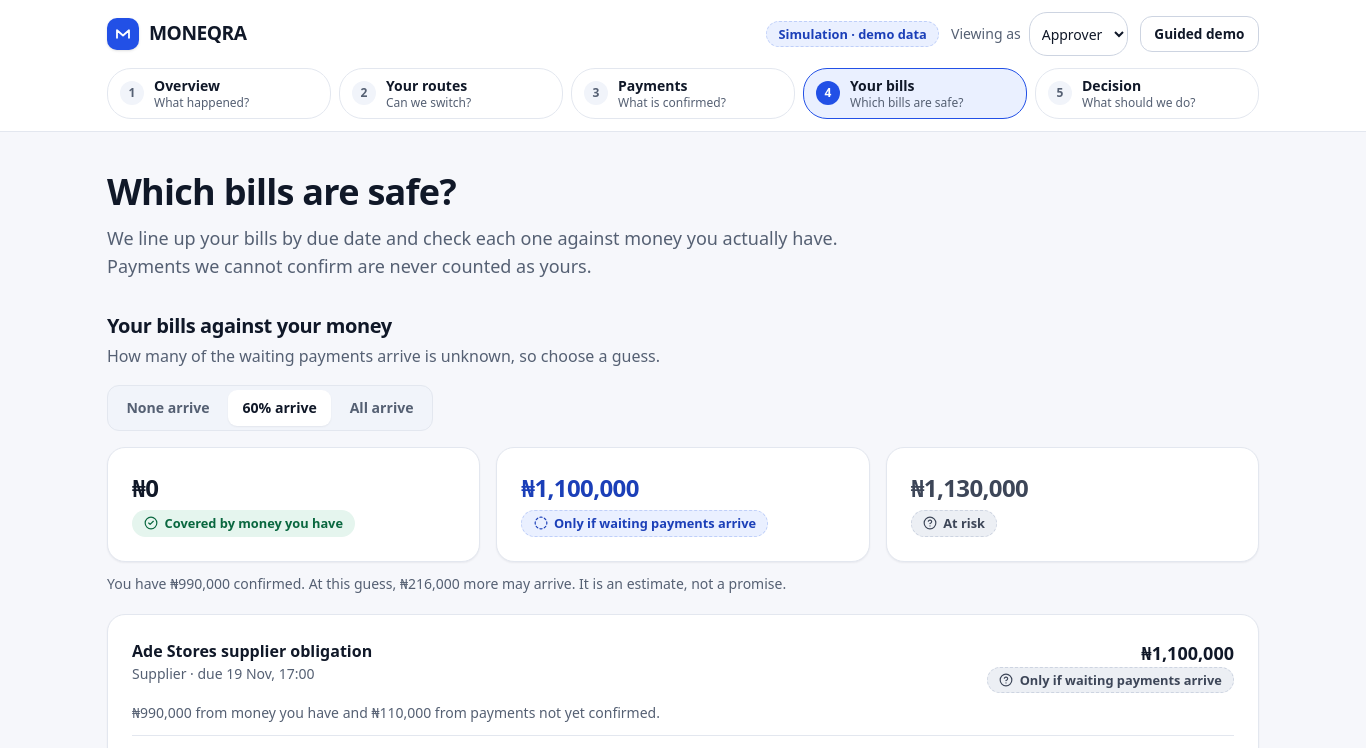
Scenario: Your bills › changing the guess changes the coverage
Click the button "None arrive" at (168, 408), box [112,390,224,426]
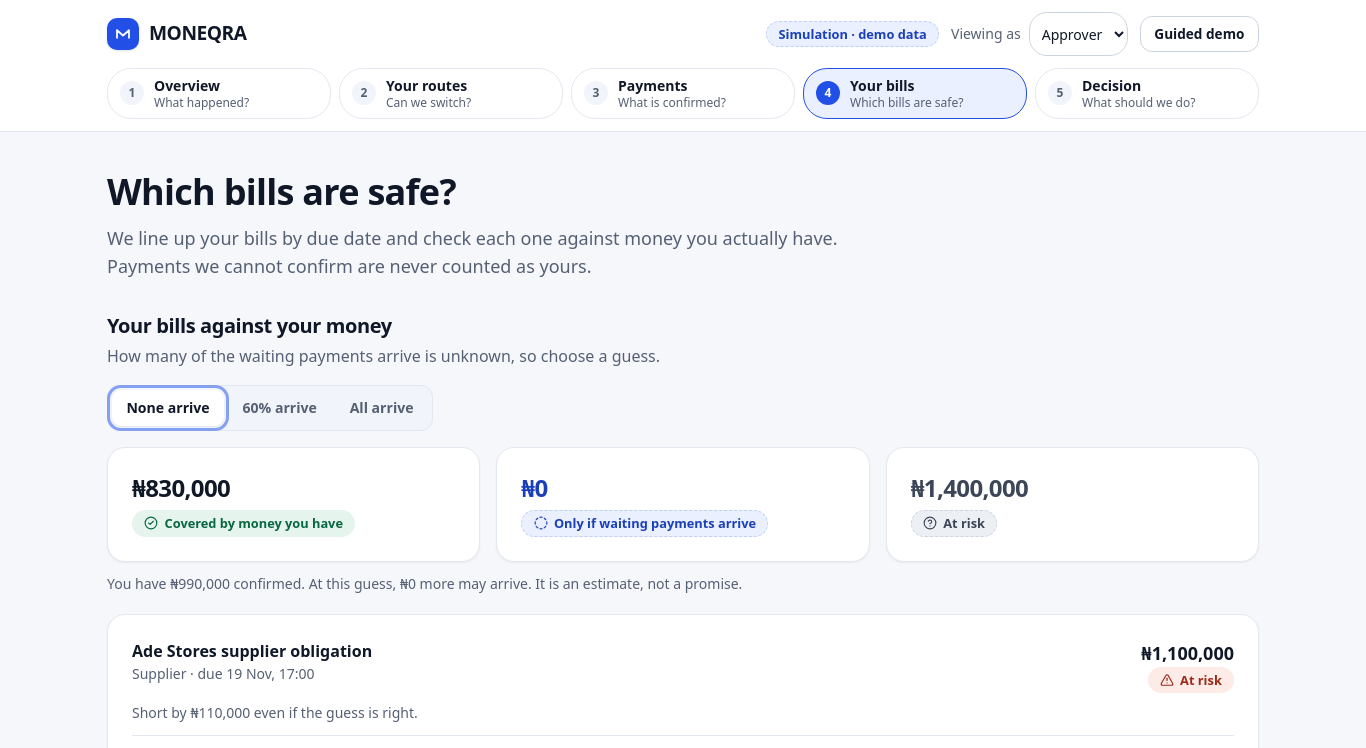
Expected: the text "At risk" below "₦1,100,000" is shown, [1180,671,1222,689]
